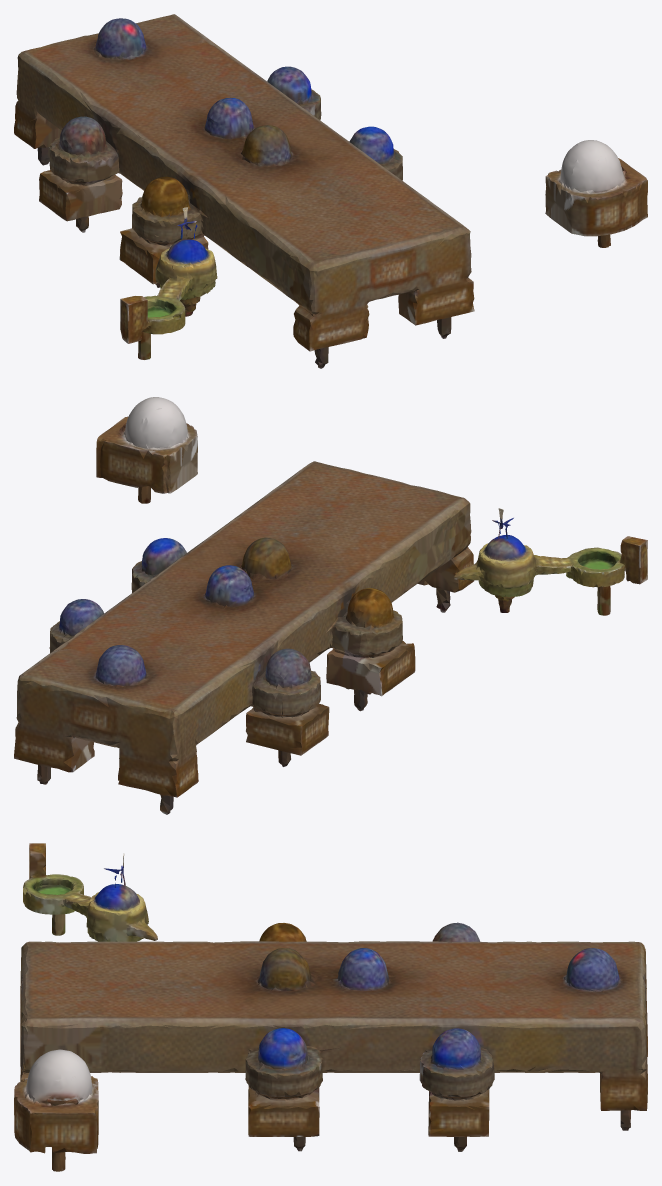
Rendered from kurczoker-map-world-rodin.glb.
3 renders of one model, top to bottom at view 1: azimuth 30°, elevation 25°; view 2: azimuth 150°, elevation 25°; view 3: azimuth 270°, elevation 25°, orthographic. The views are drawn at different scales.
Parts seen in each view (by area): view 1: model; view 2: model; view 3: model.
Boxes of the visible parts, <box> form: model: <box>14,14,647,368</box>; model: <box>14,397,647,814</box>; model: <box>14,843,647,1171</box>.
Size of the model in its own units: 1.87 by 0.5346 by 1.88.
Materials: 1 (1 with a texture image).
